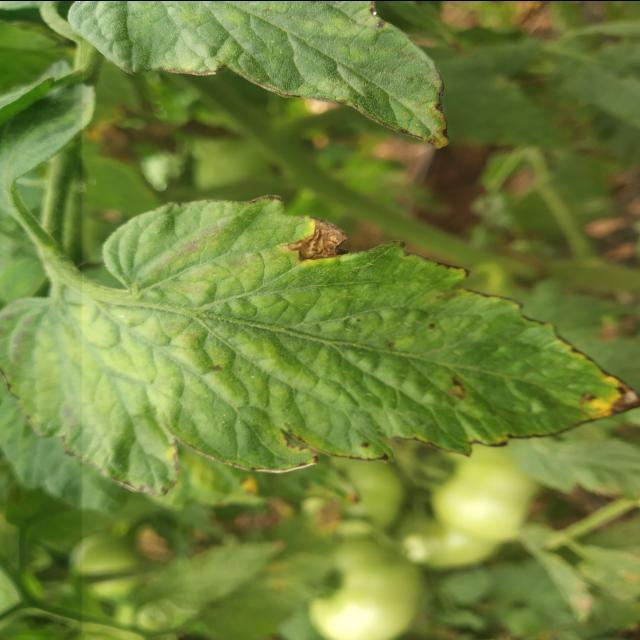Tomato mosaic virus leaf: (100, 187, 472, 291), (332, 2, 456, 154)
